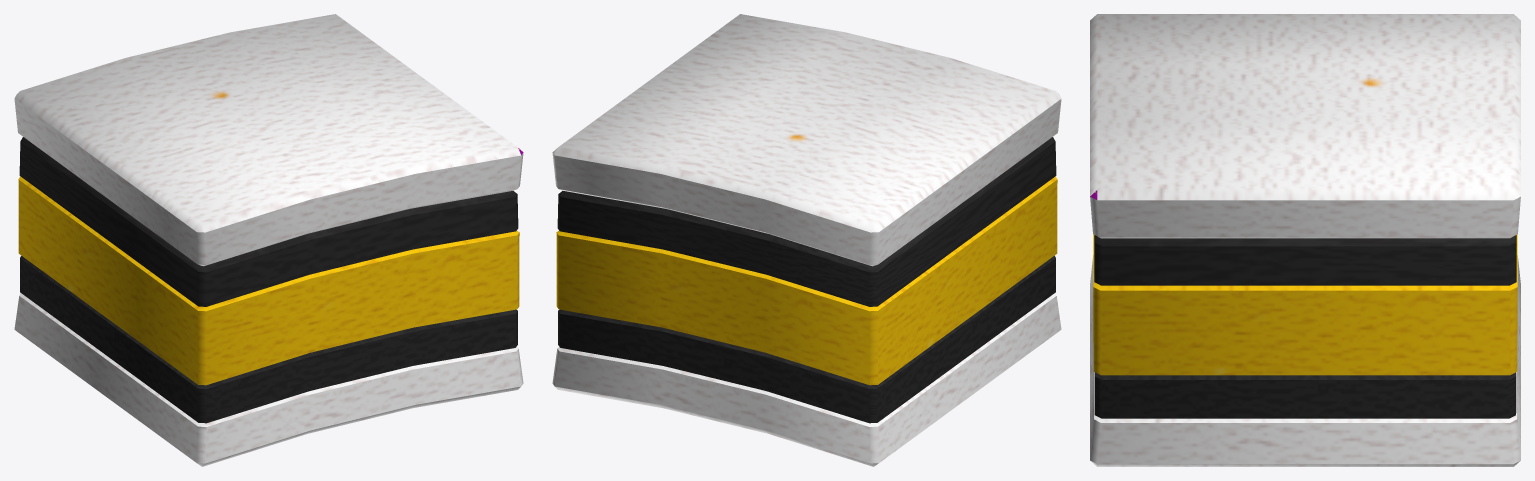
The model's file is DoubleLayersSquare_UV_FBX.fbx.
3 views of the same model, side by side, from view 1: azimuth 30°, elevation 25°; view 2: azimuth 150°, elevation 25°; view 3: azimuth 270°, elevation 25° (orthographic). The views are drawn at different scales.
Visible parts, largest first — view 1: 5layers; view 2: 5layers; view 3: 5layers.
Part boxes in pixels (bbox=[...]): 5layers: bbox=[14, 14, 523, 466]; 5layers: bbox=[552, 14, 1061, 466]; 5layers: bbox=[1090, 14, 1520, 466].
Size of the model in its own units: 120 by 87.67 by 120.
